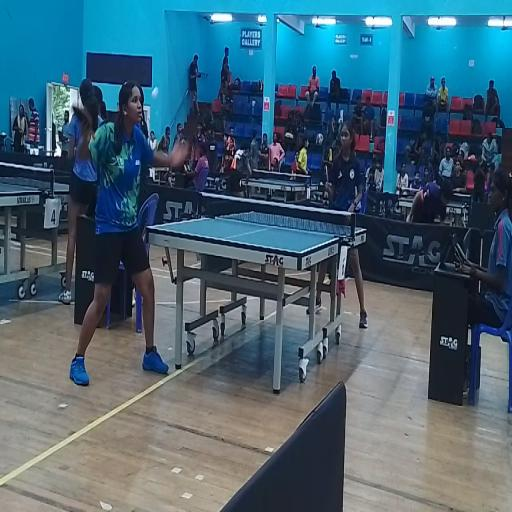ball: (151, 86, 159, 100)
